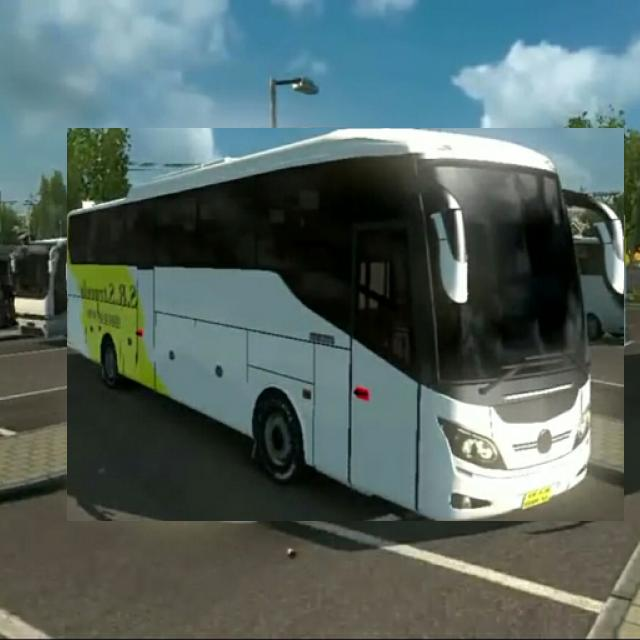bus: (68, 129, 624, 521)
